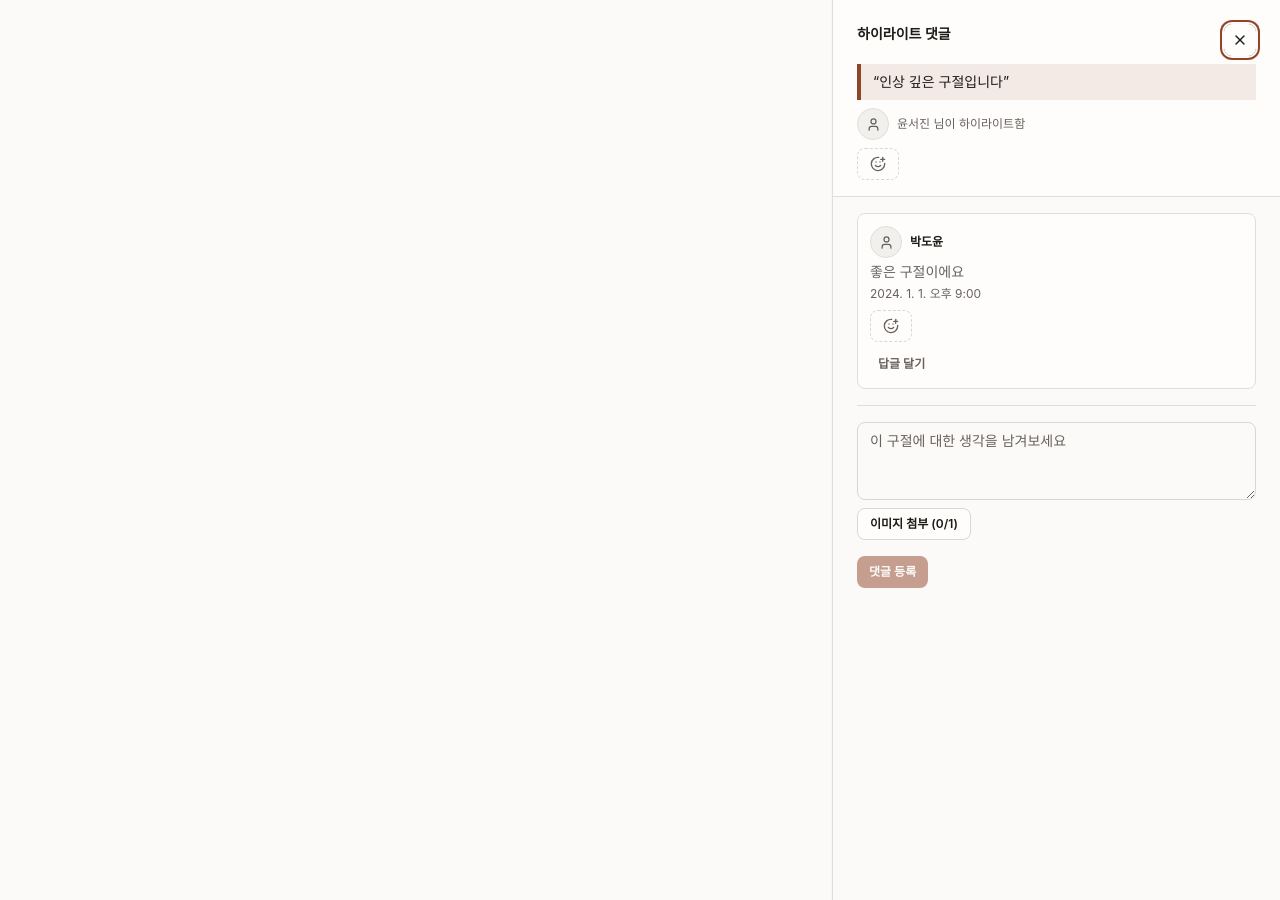
HighlightCommentPanel › 댓글의 '답글 달기' 버튼 클릭 시 답글 입력폼이 나타난다
What coordinates should you click on to do the following:
click the button "답글 달기"
I would click on:
 (902, 364)
Its box is 870,352 -> 933,376.
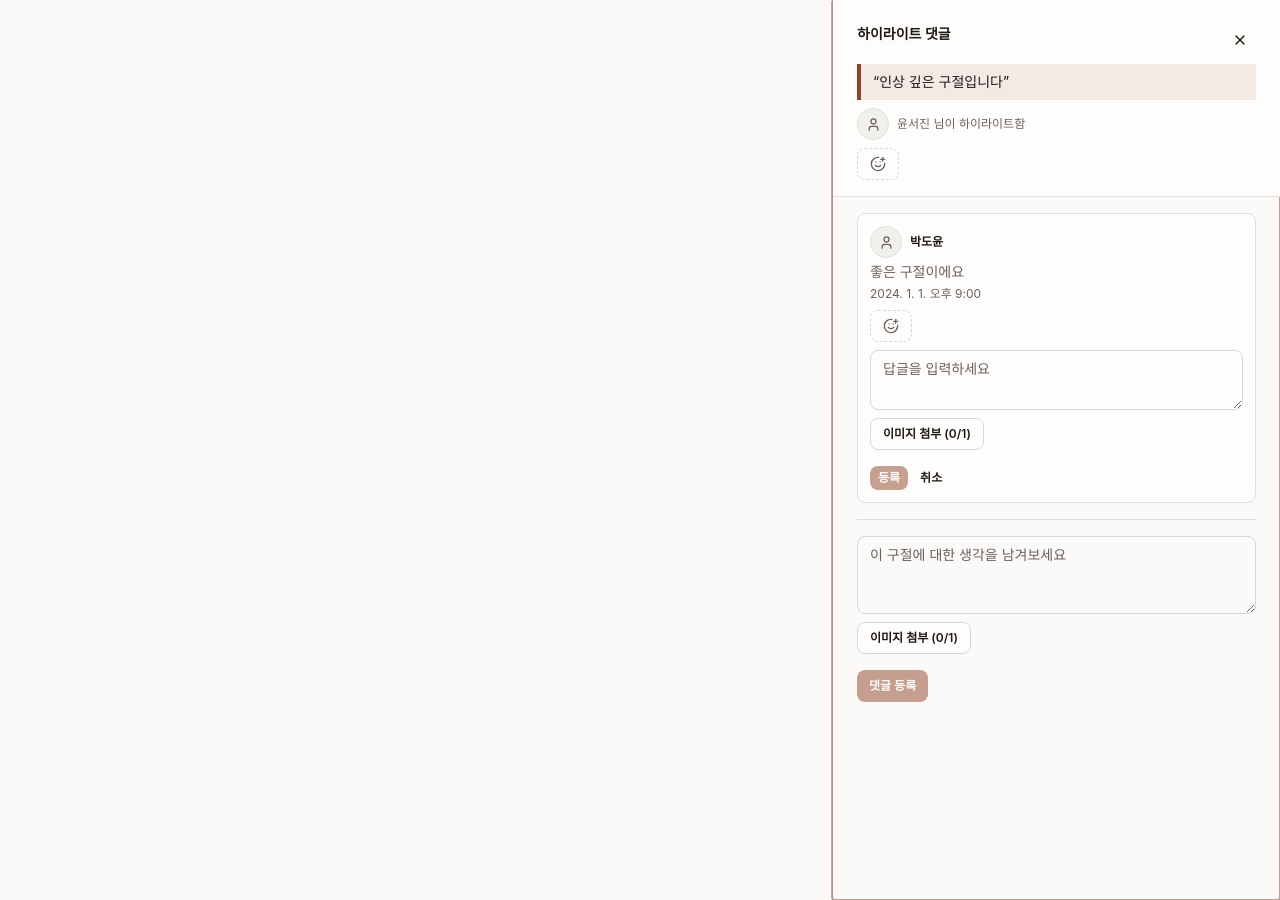
Check: the text box with placeholder "답글을 입력하세요" is shown, box 870,350 -> 1243,410
